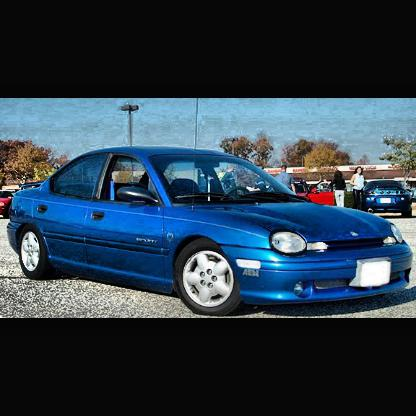Plymouth Neon Coupe 1999: (8, 147, 416, 316)
